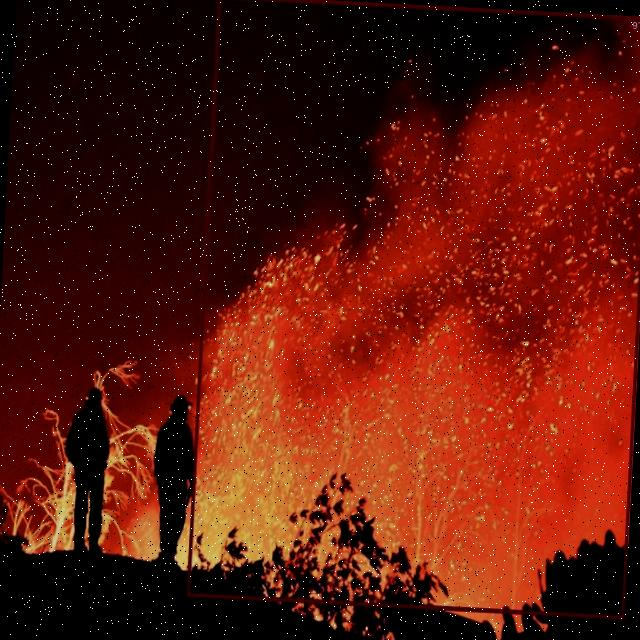fire: (187, 0, 640, 619)
